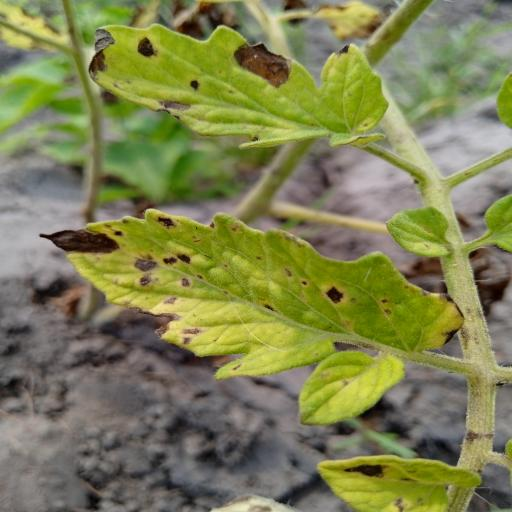Tomato_Brown_Spots: (30, 204, 463, 420)
